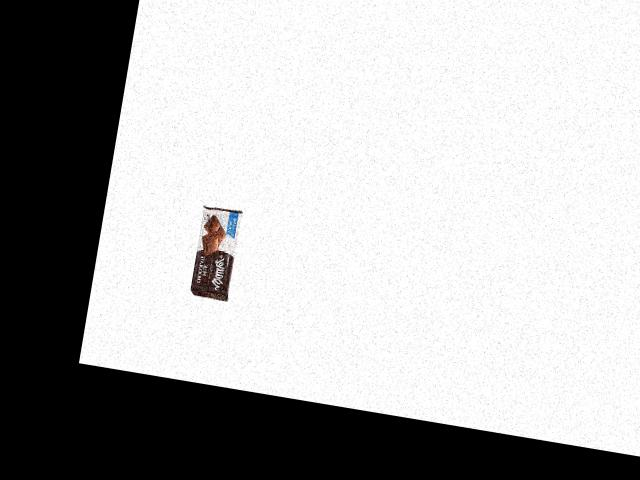chocolate: (187, 203, 244, 300)
